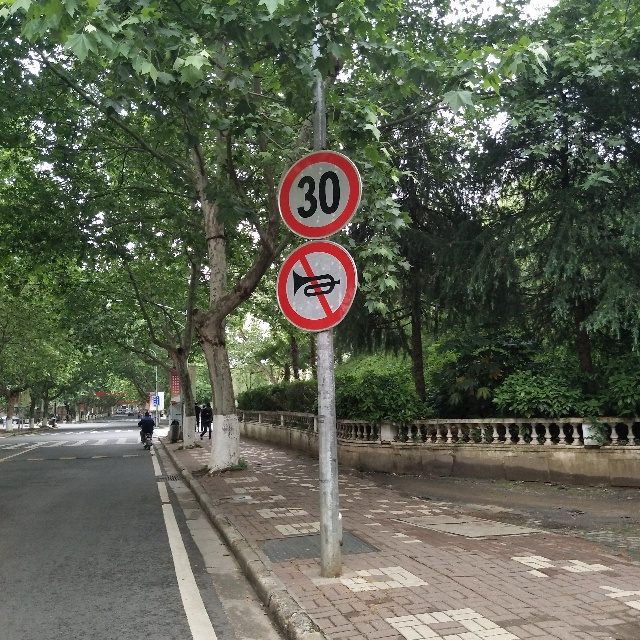nohonk: (284, 248, 350, 322)
